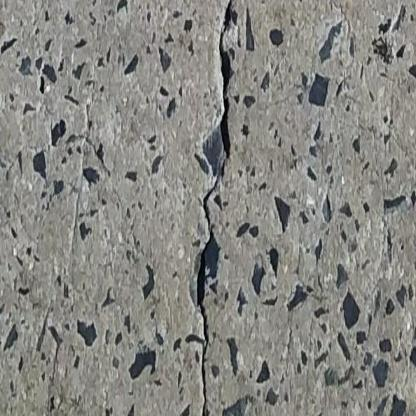Cracks: (193, 0, 239, 416)
